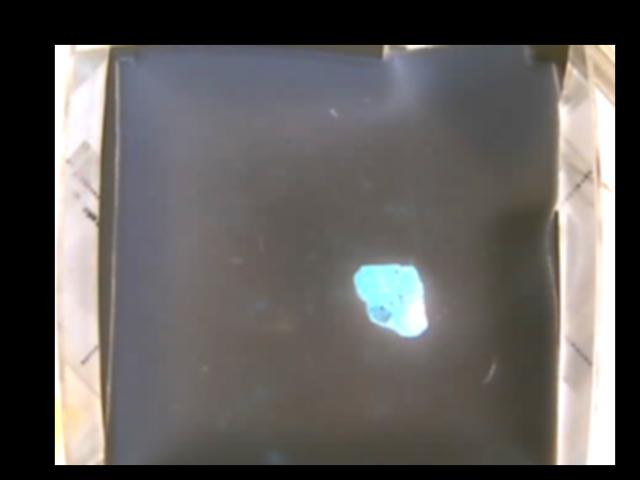Brisk: (351, 264, 429, 337)
